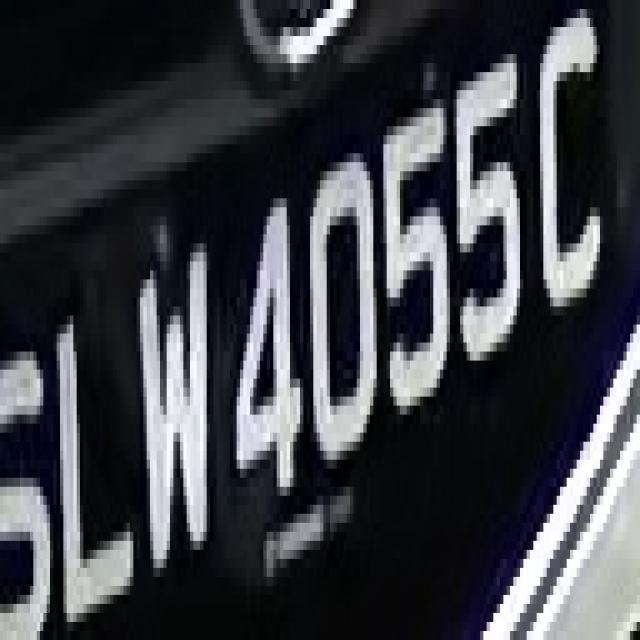0: (296, 153, 386, 478)
4: (220, 153, 303, 505)
5: (436, 36, 526, 406), (377, 90, 453, 415)
C: (534, 9, 614, 343)
L: (47, 297, 140, 622)
W: (123, 225, 217, 568)
